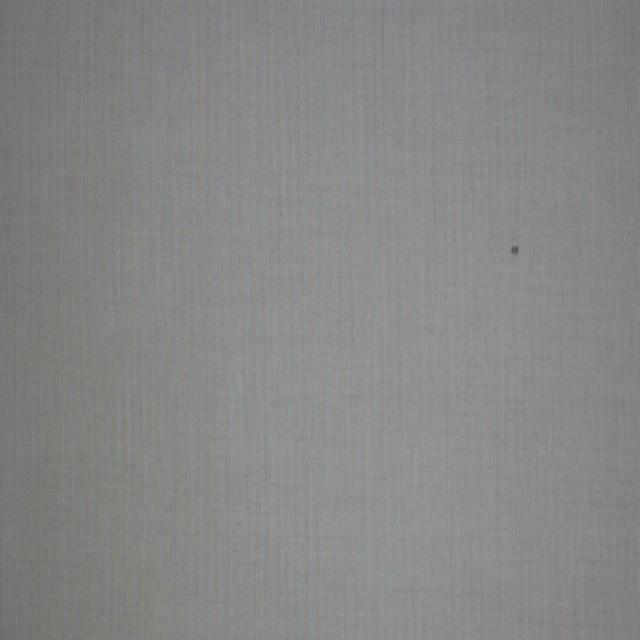dirty: (512, 243, 520, 257)
